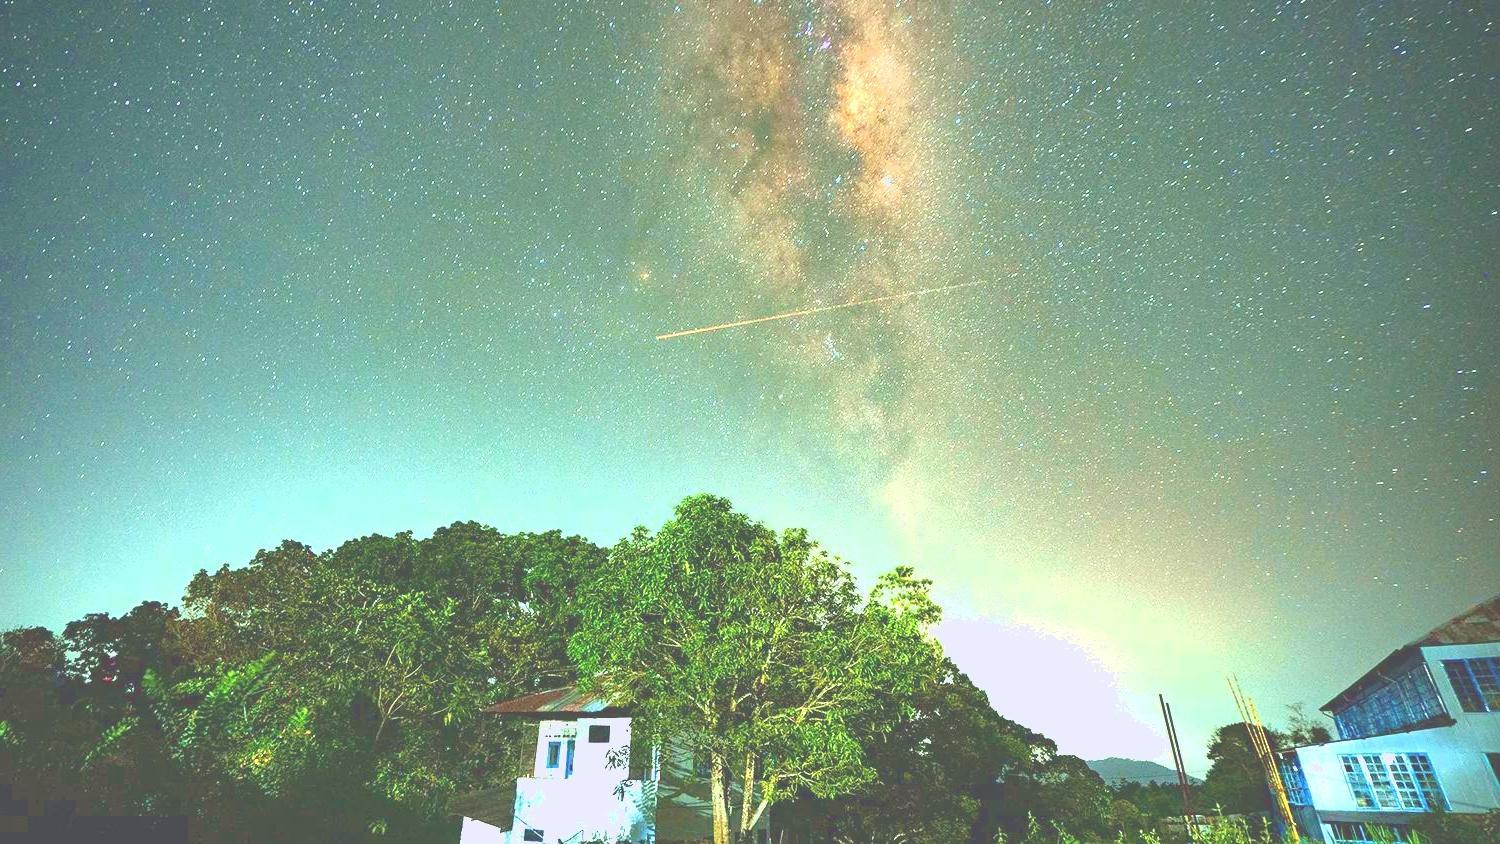meteorite: (630, 298, 857, 350)
